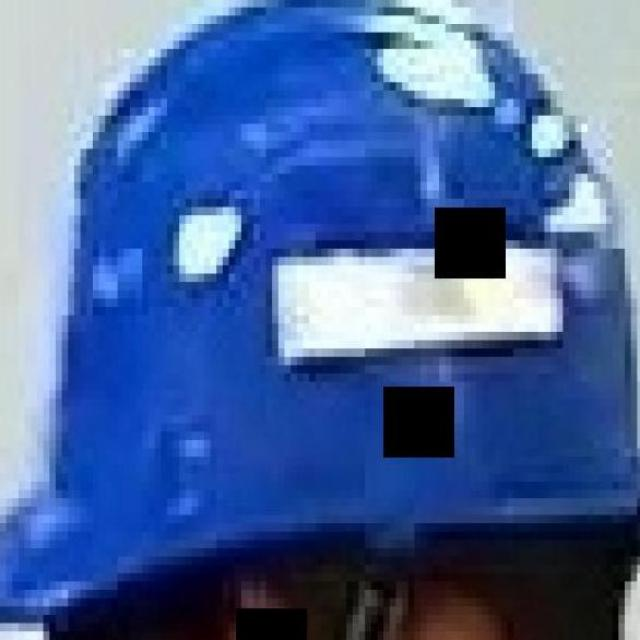blue helmet: (48, 9, 638, 547)
